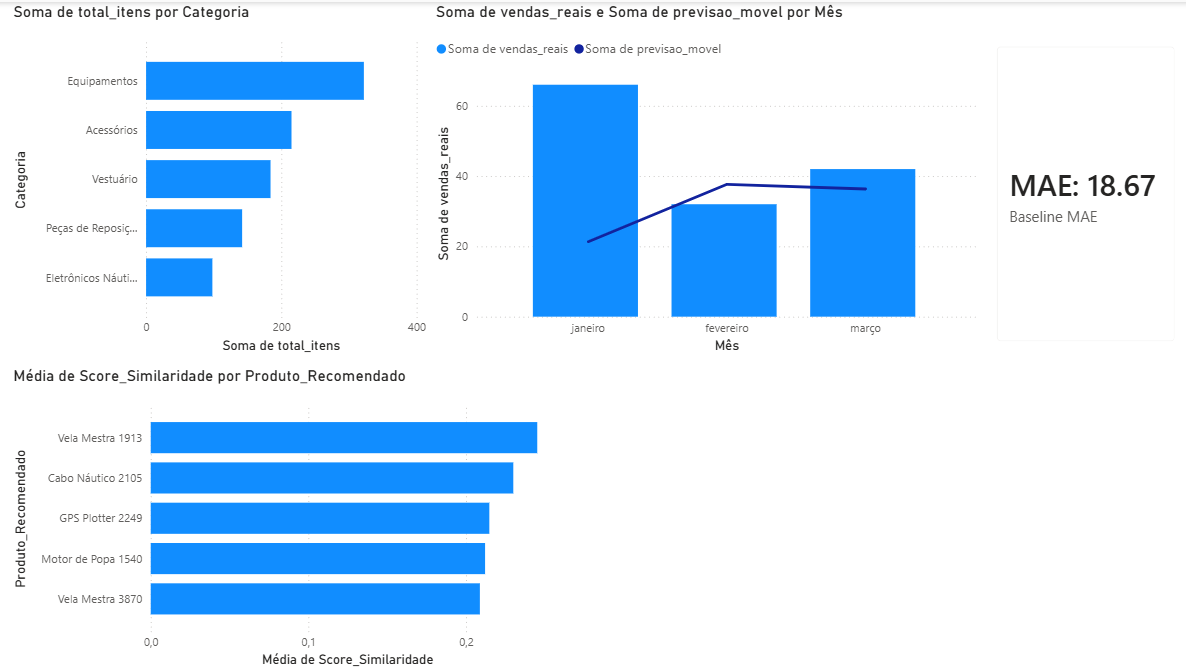

This screenshot's page, from the dashboard's own definition file:
{"tool":"powerbi","page":{"name":"Questão 4/6/7","canvas":[1280,720],"ordinal":1},"visuals":[{"type":"barChart","fields":{"Category":["tb_categoria_elite.Categoria"],"Y":["Sum(tb_categoria_elite.total_itens)"]},"box":[9.8,0,453.6,381.7],"z":0},{"type":"lineStackedColumnComboChart","fields":{"Y":["Sum(tb_previsao_bussola.vendas_reais)"],"Category":["tb_previsao_bussola.Mês.Variation.Hierarquia de datas.Mês"],"Y2":["Sum(tb_previsao_bussola.previsao_movel)"]},"box":[463.4,0,591.3,381.7],"z":1000},{"type":"cardVisual","fields":{"Data":["d_calendario.Baseline MAE"]},"box":[1054.7,31.5,225.3,351.2],"z":2000},{"type":"barChart","fields":{"Category":["tb_recomendacoes_motor.Produto_Recomendado"],"Y":["Avg(tb_recomendacoes_motor.Score_Similaridade)"]},"box":[9.8,391.6,589.3,328.6],"z":3000}]}

Visuals, with their boxes in screenshot pixels (x1, y1, x2, y2), scaled from the page's 1280x720 canvas onto the 1186x667 screenshot:
barChart - tb_categoria_elite.Categoria x Sum(tb_categoria_elite.total_itens): 9:0:429:354
lineStackedColumnComboChart - Sum(tb_previsao_bussola.vendas_reais) x tb_previsao_bussola.Mês.Variation.Hierarquia de datas.Mês: 429:0:977:354
cardVisual - d_calendario.Baseline MAE: 977:29:1185:355
barChart - tb_recomendacoes_motor.Produto_Recomendado x Avg(tb_recomendacoes_motor.Score_Similaridade): 9:363:555:666
